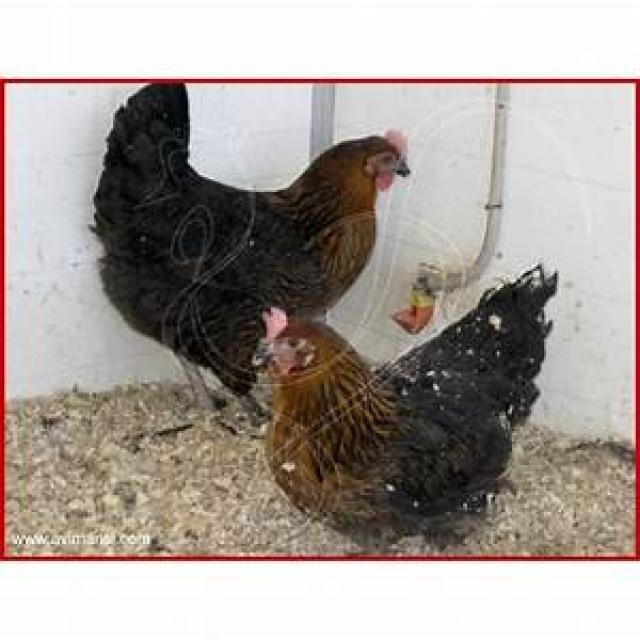animal: (87, 79, 412, 429), (250, 260, 559, 540)
